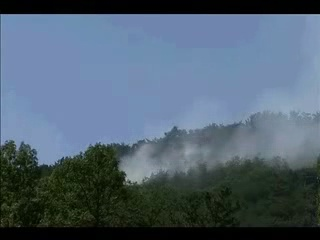smoke: (114, 111, 226, 183), (227, 85, 320, 165)
